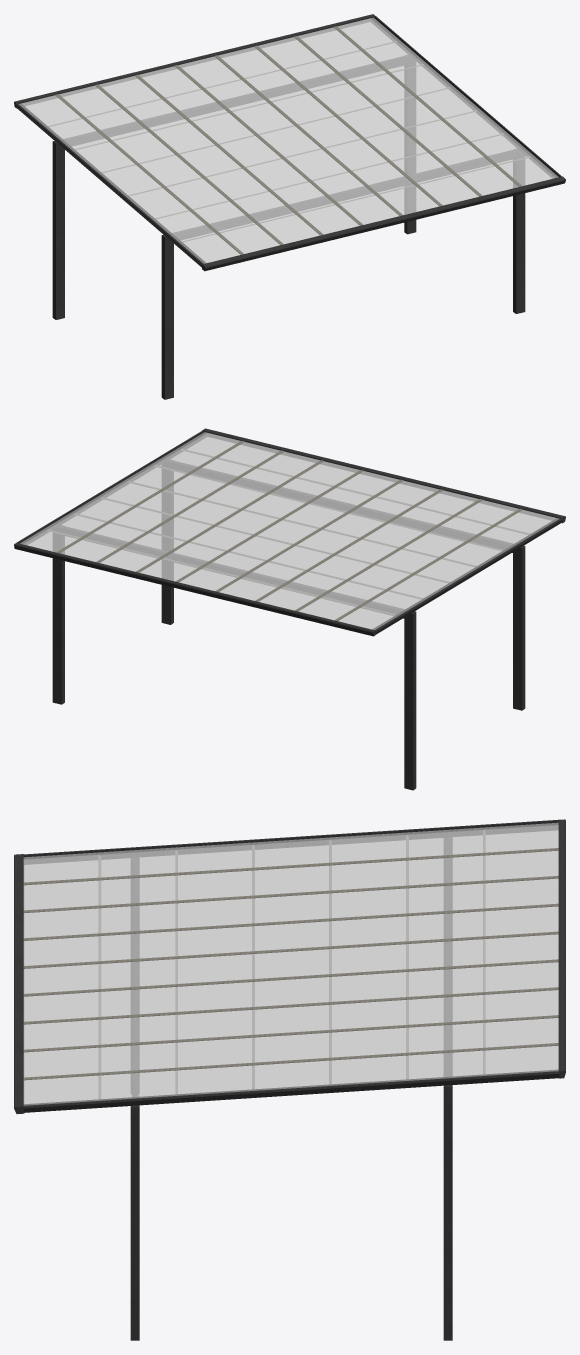
File: APwide_5450-22_matblack.fbx
3 views of the same model, one above another, from view 1: azimuth 30°, elevation 25°; view 2: azimuth 150°, elevation 25°; view 3: azimuth 270°, elevation 25° (orthographic). The views are drawn at different scales.
Visible parts, largest first — view 1: APwide_5450-22_matblack; view 2: APwide_5450-22_matblack; view 3: APwide_5450-22_matblack.
Boxes of the visible parts, x1,y1,x2,y2 form: APwide_5450-22_matblack: (14,14,565,399); APwide_5450-22_matblack: (14,428,565,790); APwide_5450-22_matblack: (14,819,565,1340).
Size of the model in its own units: 535 by 266 by 494.
Materials: 4 (3 with a texture image).
